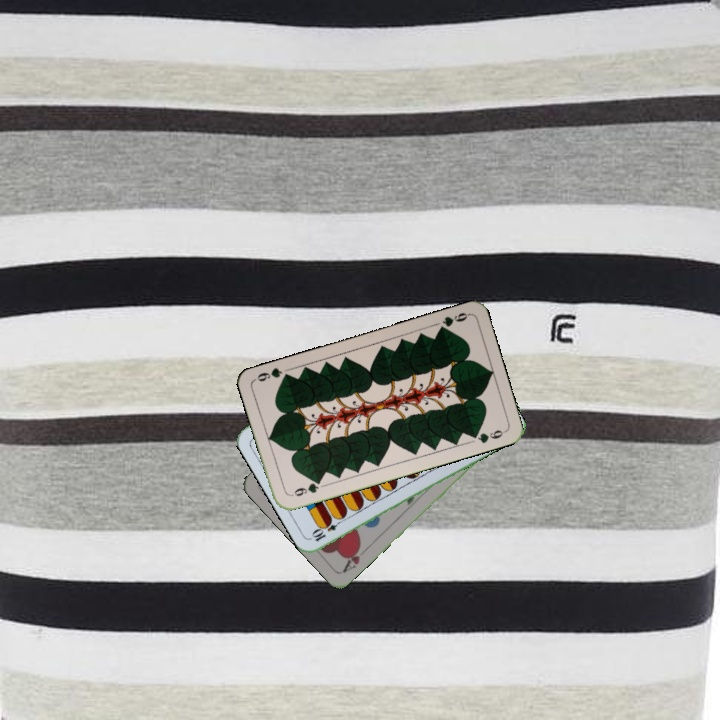E10: (308, 514, 346, 544)
G9: (434, 308, 472, 335), (287, 476, 324, 499)
HA: (338, 540, 371, 575)
